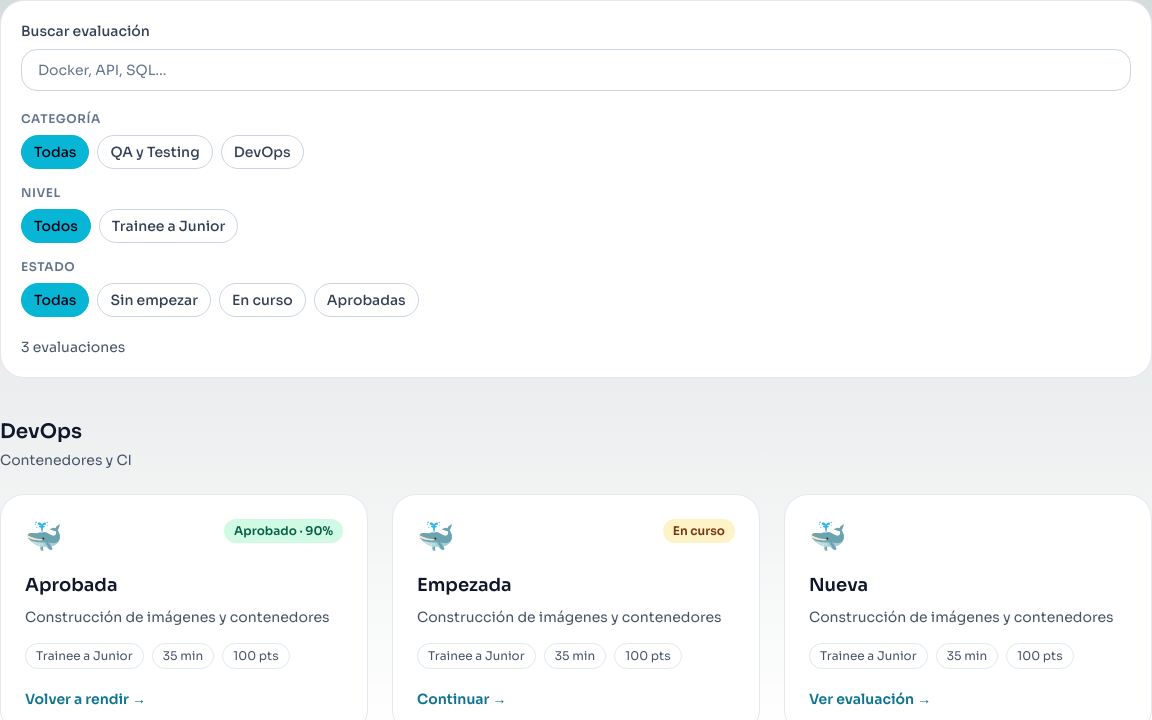
Test: buscador y filtros de /assessments › filtra por estado cuando hay sesión
Click the button "Aprobadas".
click(366, 300)  # box [314,283,419,317]
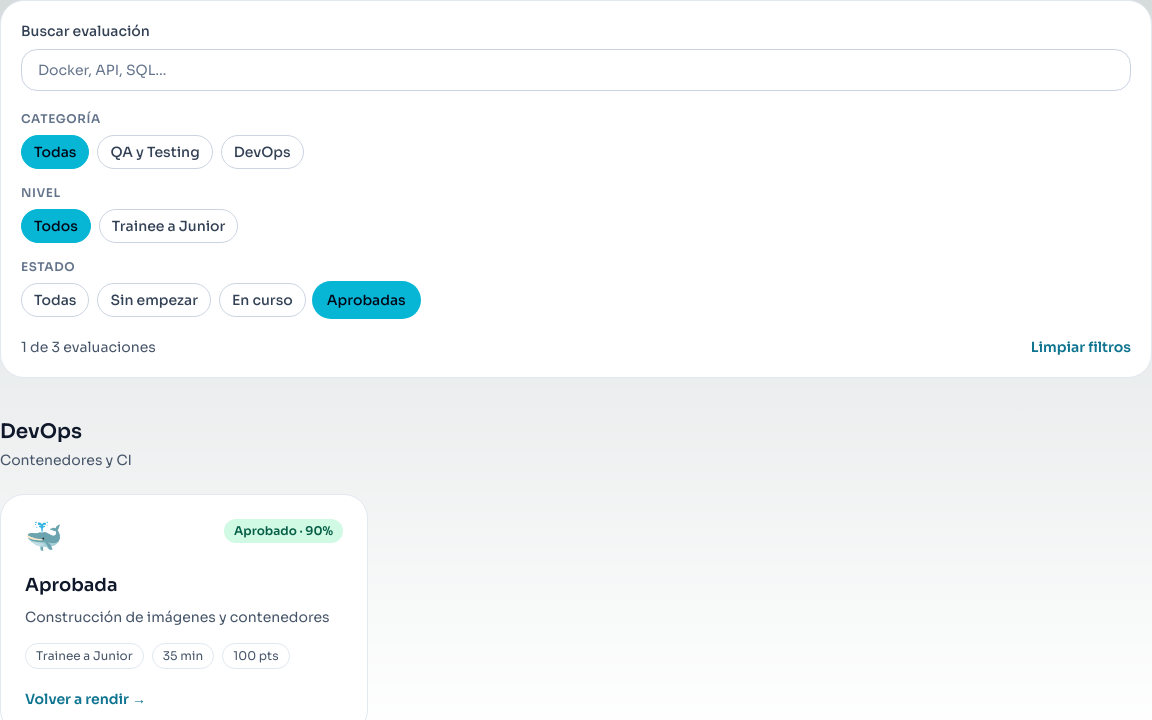
Expected: the link "Aprobada" is shown, [25,574,118,596]
Result: the link "Nueva" is gone
Result: the link "Empezada" is gone
